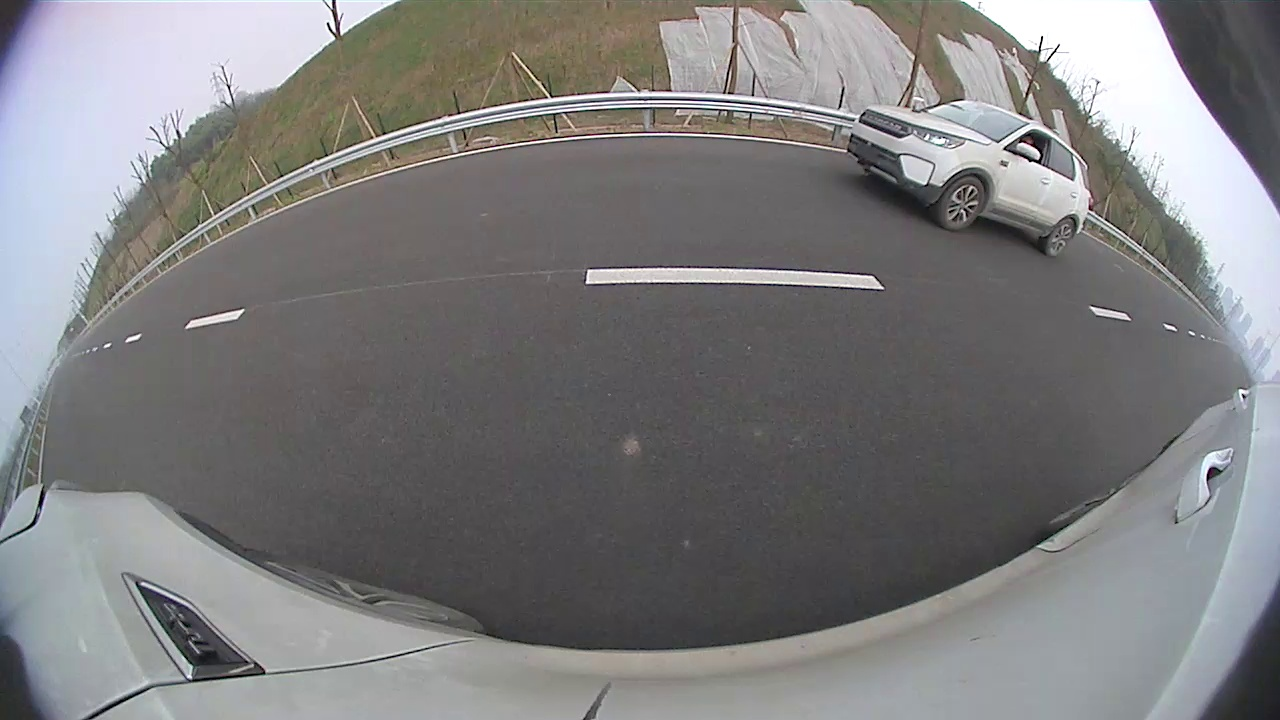car: (847, 101, 1093, 256)
front: (938, 176, 989, 231)
rear: (1045, 218, 1075, 257)
